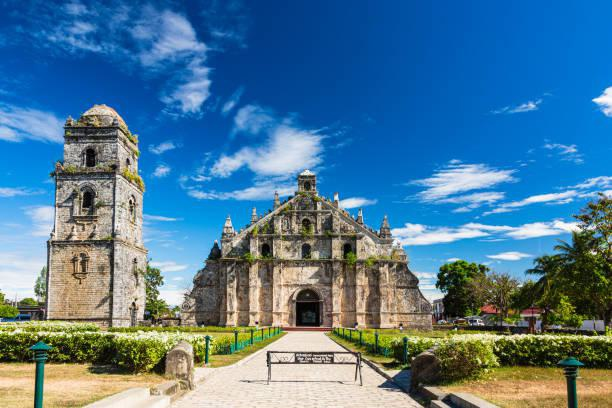paoay_church_paoay_ilocos_norte: (34, 97, 443, 341)
vegetation_damage: (118, 160, 148, 195), (240, 245, 263, 267), (57, 162, 85, 180), (251, 221, 276, 239), (342, 250, 362, 268), (298, 220, 315, 241)
